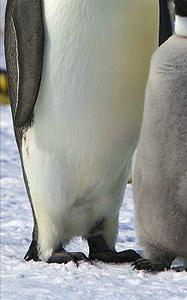Emperor Penguin: (1, 0, 170, 268)
